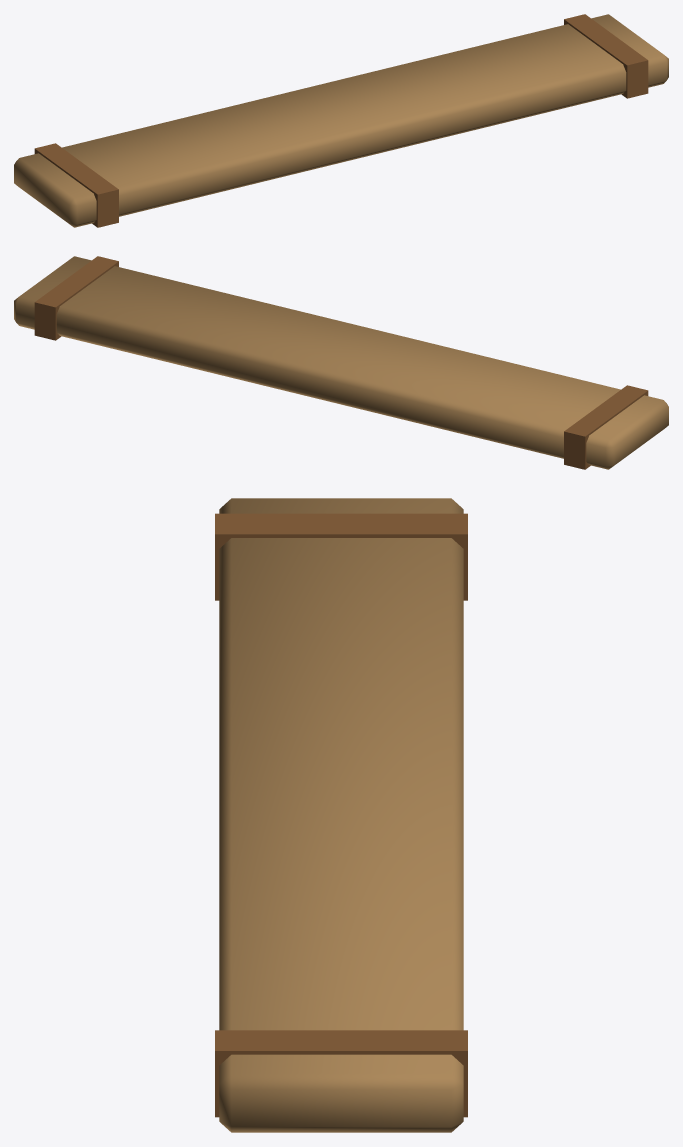
File: ppl_plank.glb
The picture shows the model from 3 angles, top to bottom: view 1: azimuth 30°, elevation 25°; view 2: azimuth 150°, elevation 25°; view 3: azimuth 270°, elevation 25°; orthographic projection. The views are drawn at different scales.
Visible parts, largest first — view 1: ppl_plank; view 2: ppl_plank; view 3: ppl_plank.
Part boxes in pixels (box(x1,y1,x2,y2)): ppl_plank: box(14, 14, 668, 227); ppl_plank: box(14, 256, 668, 469); ppl_plank: box(215, 498, 467, 1132).
Bounding box in the file's own units: 0.34 × 0.018 × 0.062.
